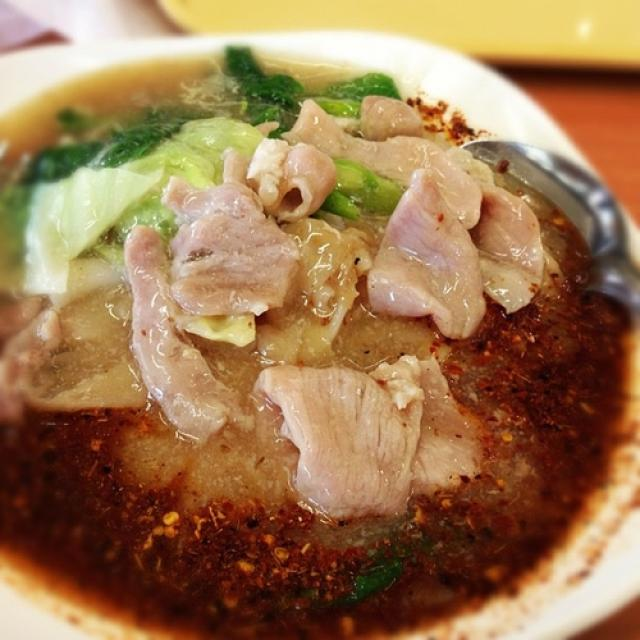面条主食: (18, 48, 602, 610)
